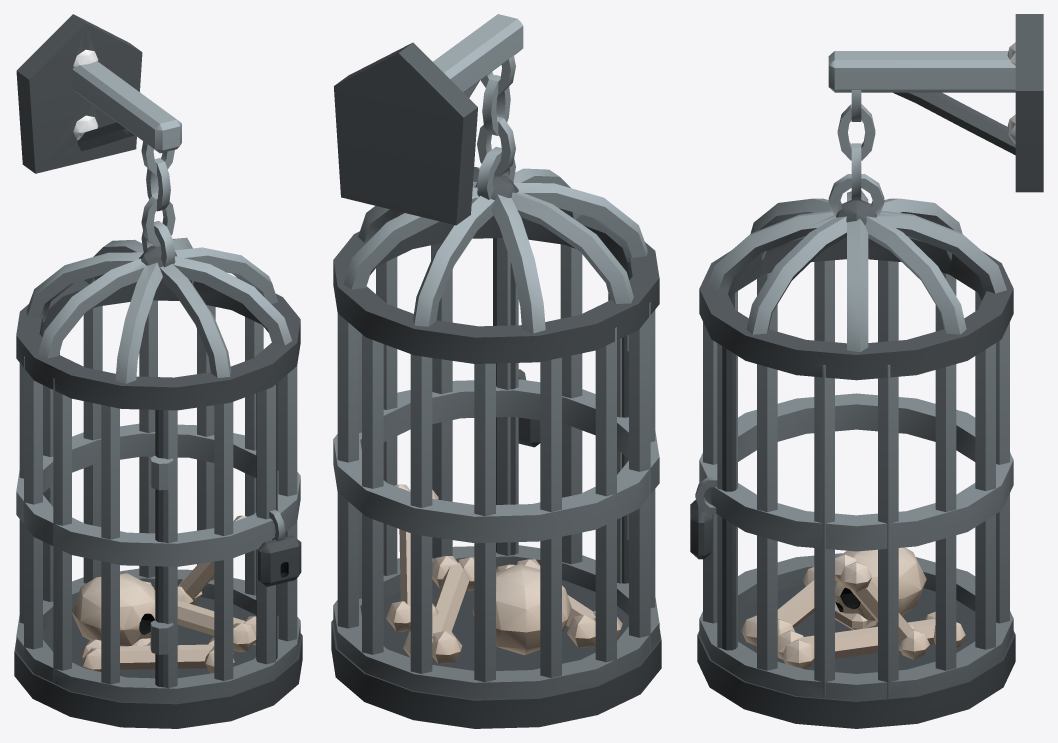
File: hanging_cage_bones.glb
The picture shows the model from 3 angles, left to right: view 1: azimuth 30°, elevation 25°; view 2: azimuth 150°, elevation 25°; view 3: azimuth 270°, elevation 25°; orthographic projection. The views are drawn at different scales.
Parts seen in each view (by area): view 1: hanging_cage_bones; view 2: hanging_cage_bones; view 3: hanging_cage_bones.
Boxes of the visible parts, x1,y1,x2,y2 form: hanging_cage_bones: (14, 14, 302, 728); hanging_cage_bones: (331, 14, 661, 728); hanging_cage_bones: (690, 14, 1043, 728).
Size of the model in its own units: 1.6 by 3.59 by 1.77.
Materials: 1 (1 with a texture image).
